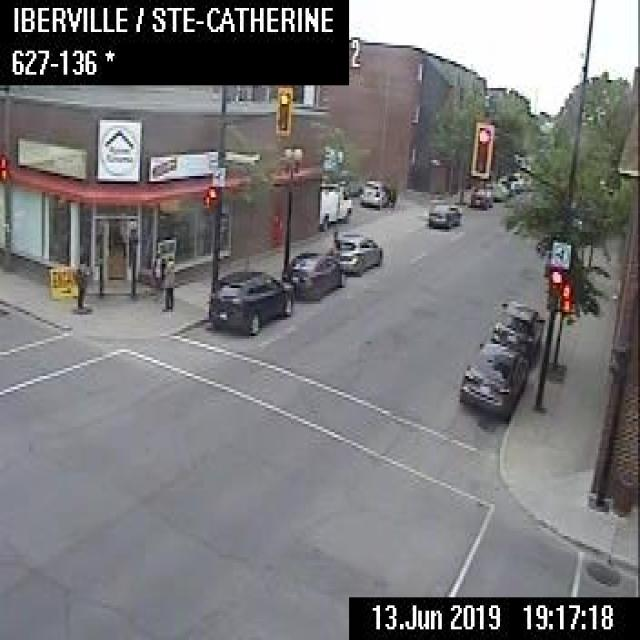pedestrian: (158, 253, 176, 309), (75, 256, 89, 309)
vehicle: (206, 268, 293, 333), (456, 341, 528, 419), (490, 298, 543, 361), (280, 250, 345, 299), (326, 232, 381, 276), (317, 180, 351, 227), (358, 178, 389, 208), (427, 202, 458, 226), (483, 172, 509, 200), (469, 186, 492, 208), (506, 170, 521, 191)
